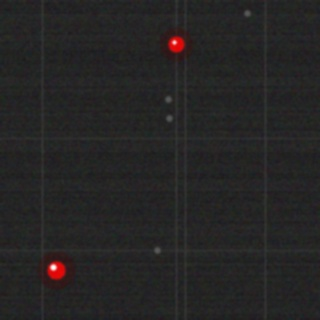red_fault: (45, 259, 67, 281), (166, 34, 186, 54)
